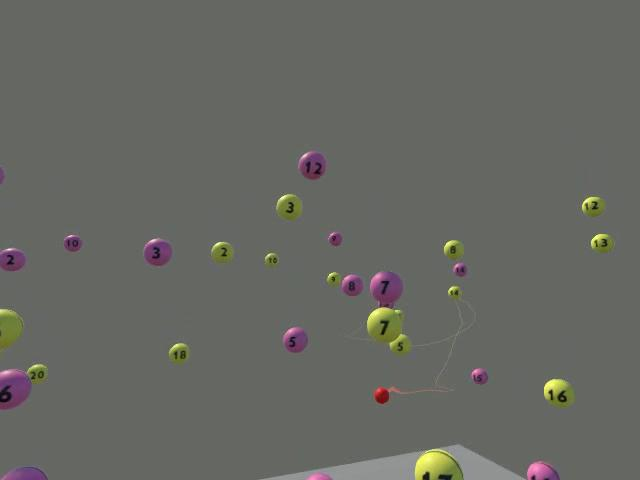ball_02_pink: (0, 247, 26, 271)
ball_02_yellow: (211, 241, 233, 263)
ball_03_pink: (143, 238, 171, 265)
ball_03_yellow: (276, 193, 301, 220)
ball_05_pink: (283, 326, 307, 353)
ball_05_yellow: (389, 333, 410, 354)
ball_07_pink: (368, 270, 402, 305)
ball_07_yellow: (366, 306, 403, 343)
ball_08_pink: (341, 274, 363, 296)
ball_08_yellow: (443, 239, 463, 259)
ball_09_pink: (327, 231, 342, 246)
ball_09_yellow: (326, 271, 340, 286)
ball_10_pink: (63, 234, 82, 251)
ball_10_yellow: (264, 252, 278, 266)
ball_12_pink: (298, 150, 326, 179)
ball_12_yellow: (582, 196, 604, 216)
ball_13_yellow: (590, 233, 612, 253)
ball_14_pink: (453, 262, 467, 277)
ball_14_yellow: (448, 285, 460, 299)
ball_15_pink: (470, 367, 488, 384)
ball_16_yellow: (543, 378, 574, 407)
ball_18_yellow: (168, 342, 189, 363)
ball_20_yellow: (26, 364, 47, 384)
ball_unknown: (413, 448, 463, 479), (0, 367, 30, 409), (0, 309, 24, 351), (0, 465, 48, 479), (526, 460, 560, 479), (373, 387, 389, 404), (305, 472, 333, 479), (377, 300, 391, 308), (0, 165, 5, 184)
